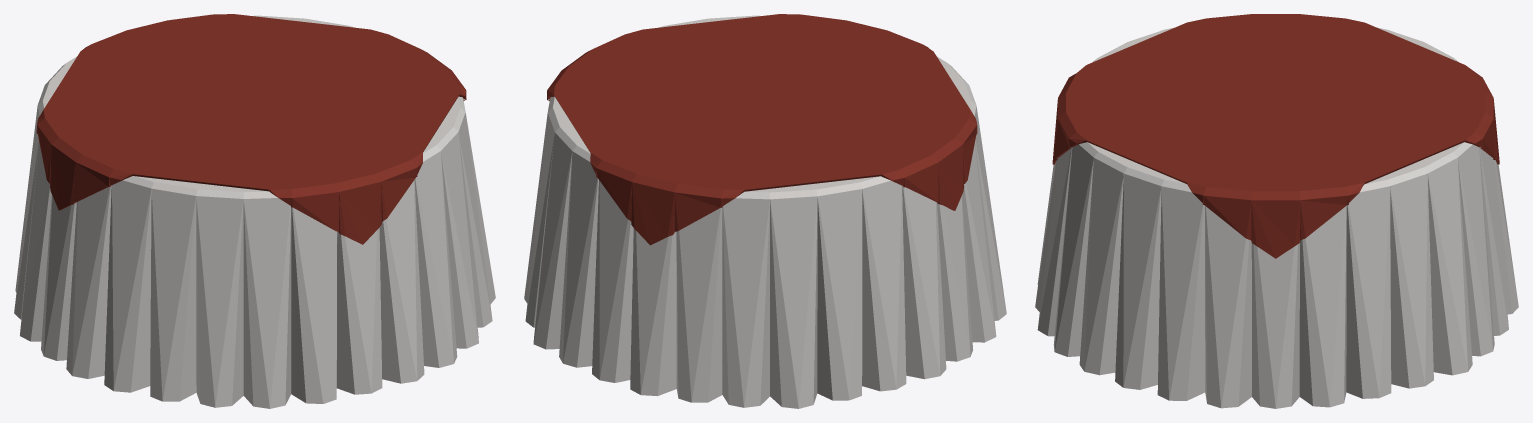
The model's file is Banquet_Table.glb.
3 views of the same model, side by side, from view 1: azimuth 30°, elevation 25°; view 2: azimuth 150°, elevation 25°; view 3: azimuth 270°, elevation 25° (orthographic).
Visible parts, largest first — view 1: mesh_0; view 2: mesh_0; view 3: mesh_0.
Part boxes in pixels (x1,y1,x2,y2): mesh_0: [14, 14, 495, 408]; mesh_0: [524, 14, 1006, 408]; mesh_0: [1035, 14, 1518, 408].
Size of the model in its own units: 1.68 by 0.788 by 1.69.
